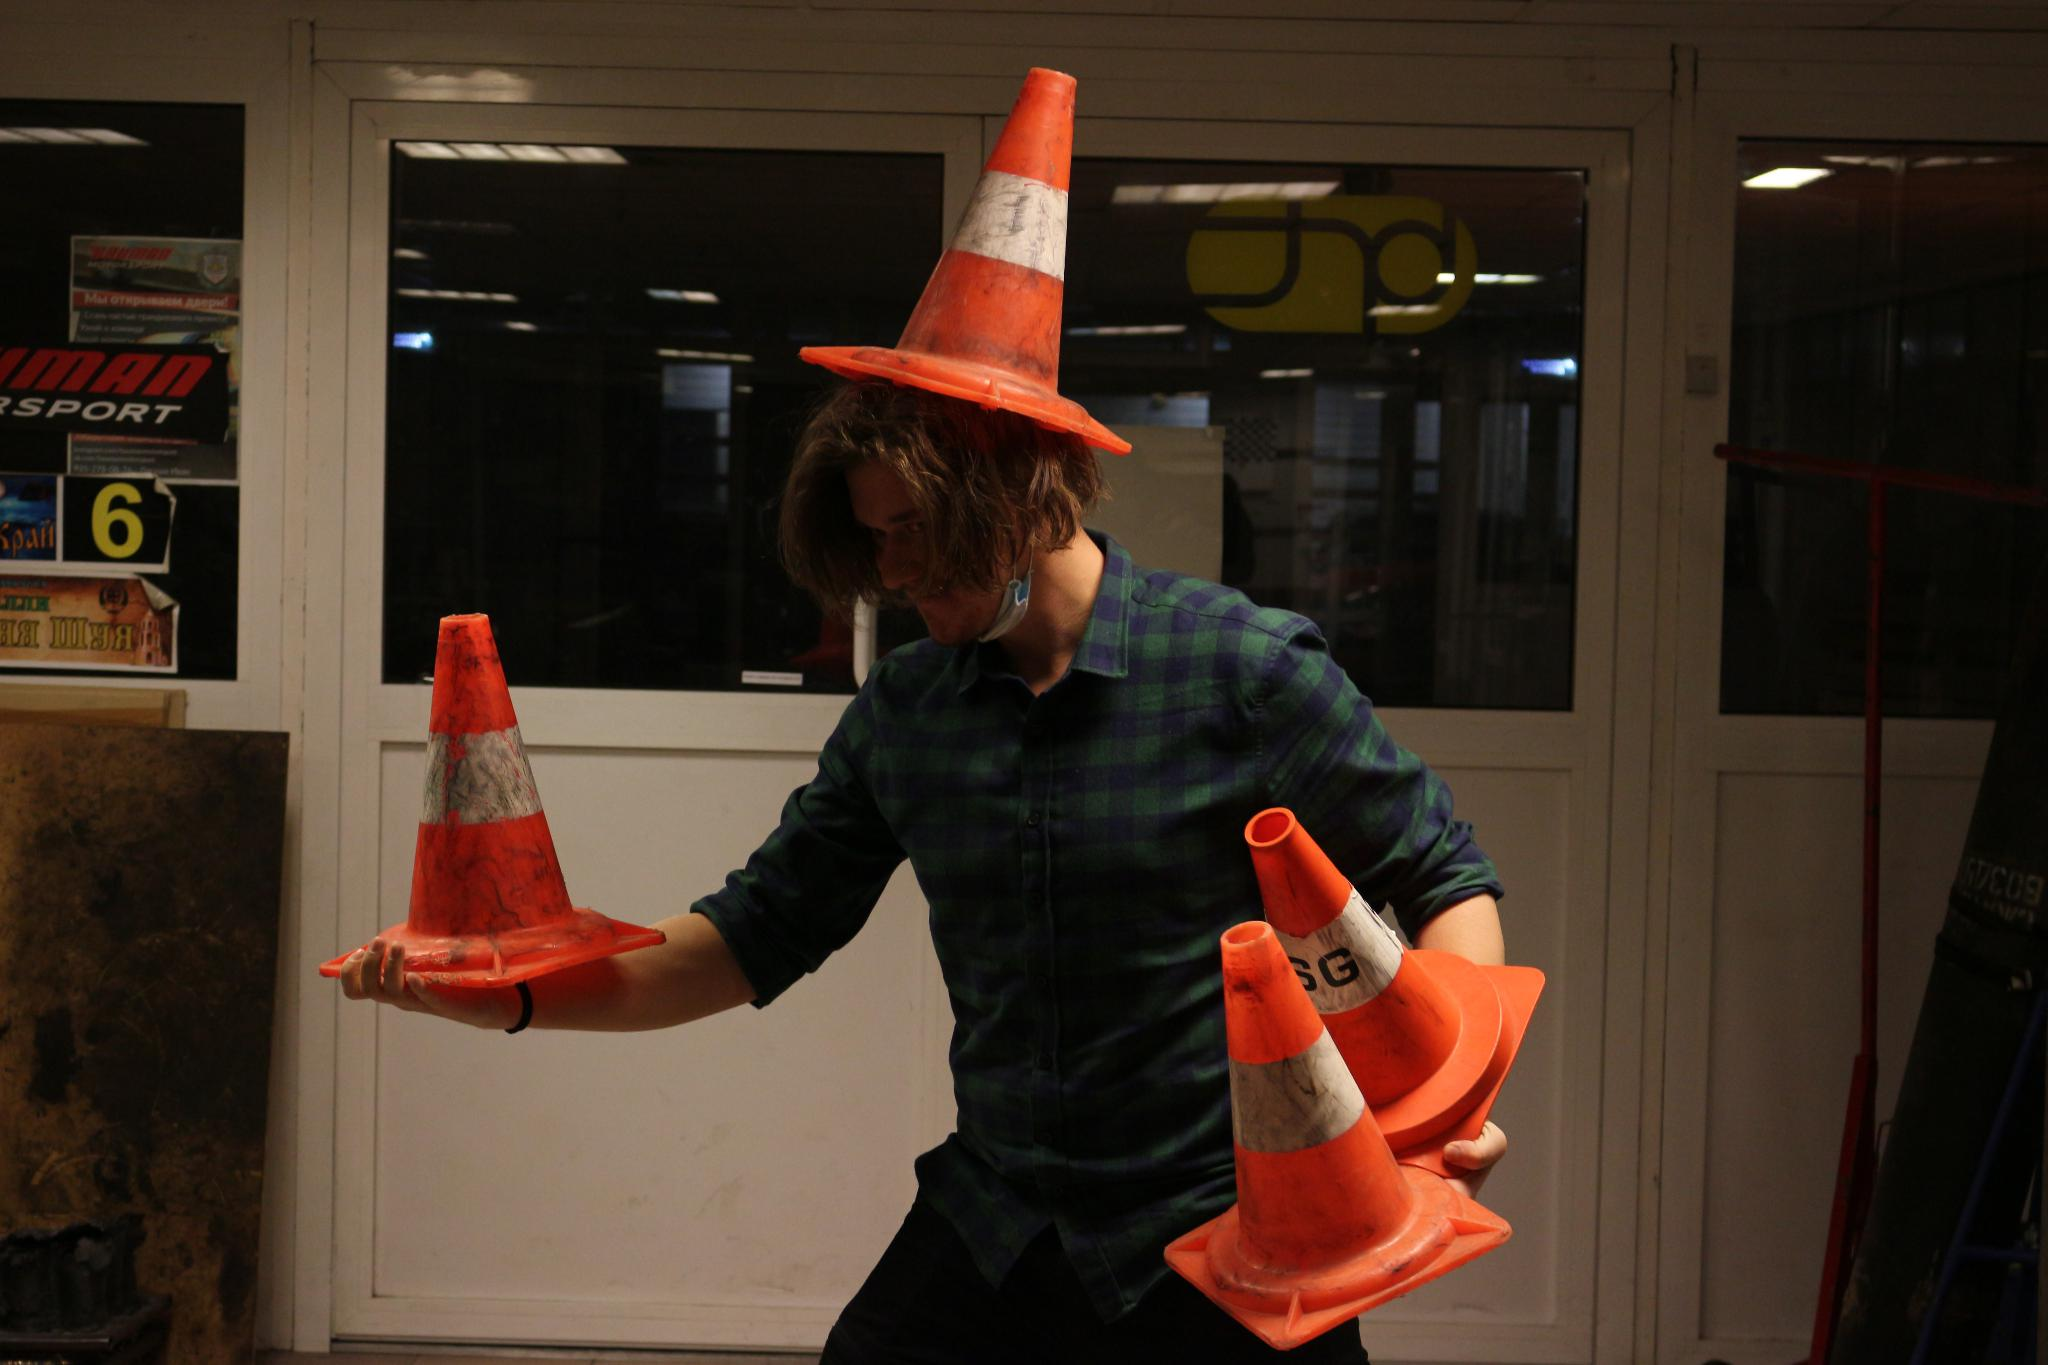Orange_Cone: (793, 62, 1134, 469), (308, 602, 647, 984), (1150, 920, 1465, 1316), (1227, 792, 1529, 1159)
